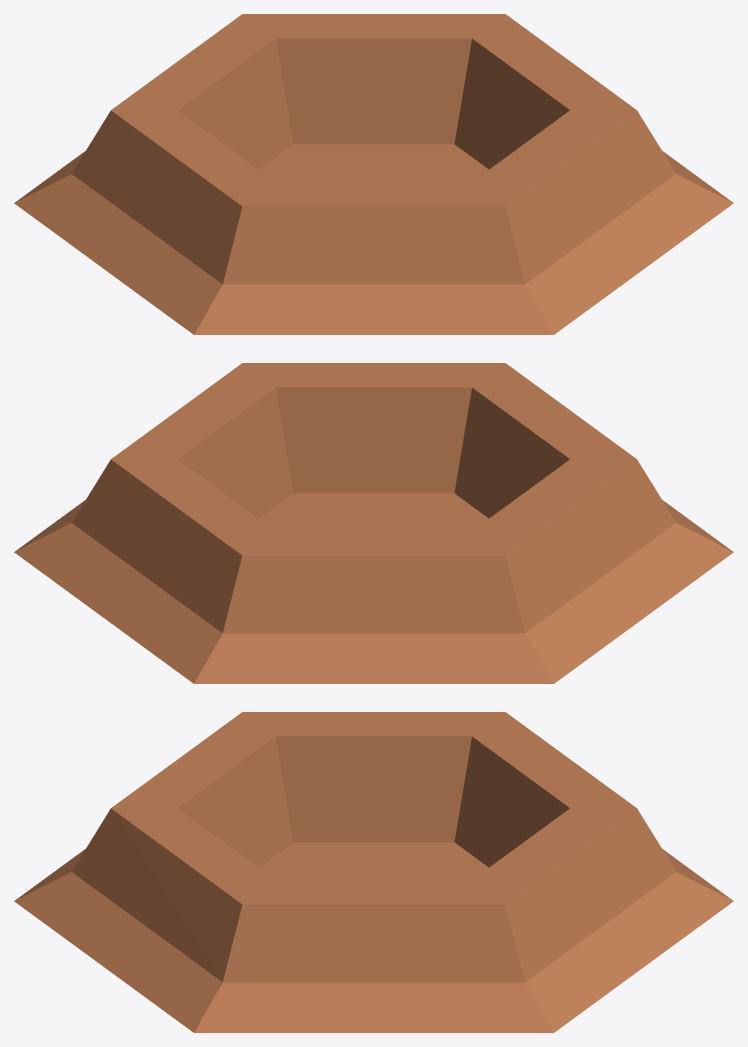
Rendered from crater.glb.
3 renders of one model, top to bottom at view 1: azimuth 30°, elevation 25°; view 2: azimuth 150°, elevation 25°; view 3: azimuth 270°, elevation 25°, orthographic.
Parts seen in each view (by area): view 1: crater; view 2: crater; view 3: crater.
Boxes of the visible parts, bbox=[...] form: crater: bbox=[14, 14, 733, 334]; crater: bbox=[14, 363, 733, 683]; crater: bbox=[14, 712, 733, 1032].
Size of the model in its own units: 7.15 by 1.18 by 8.26.
